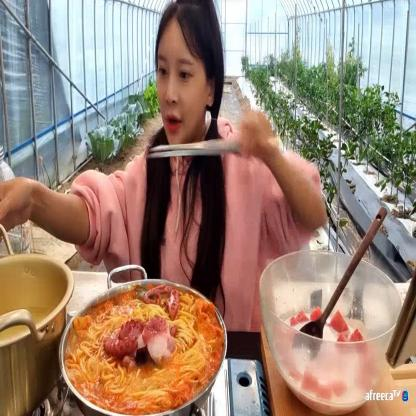streamer: (0, 0, 327, 331)
